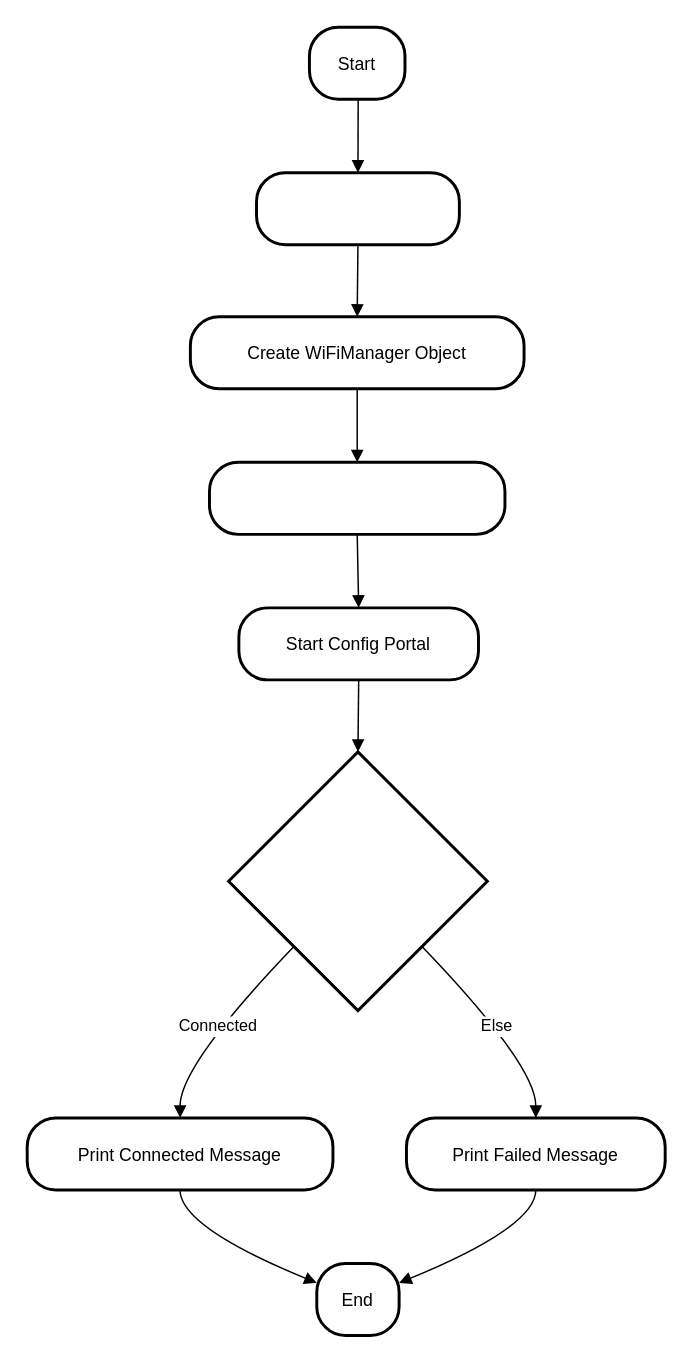
The diagram is 691 pixels wide and 1361 high, and some of its shapes have lost their labels. Here are the shapes that lost their labels. From the top down, the box of each, then its label:
(254, 171, 460, 245): Initialize Serial
(207, 460, 506, 535): Print Start Config Portal
(226, 750, 488, 1011): Check WiFi Status
